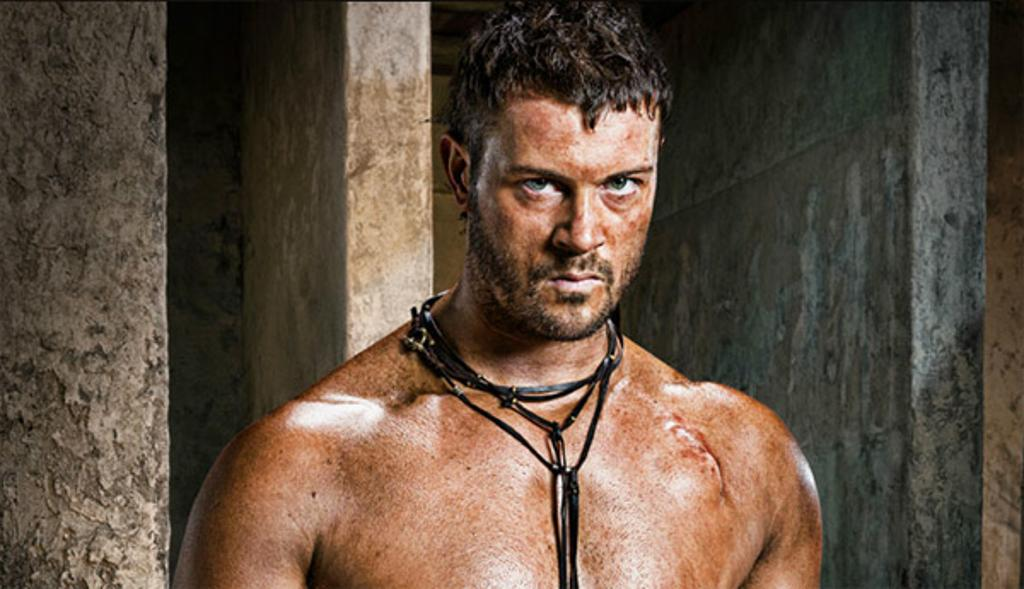face: (486, 92, 654, 328)
